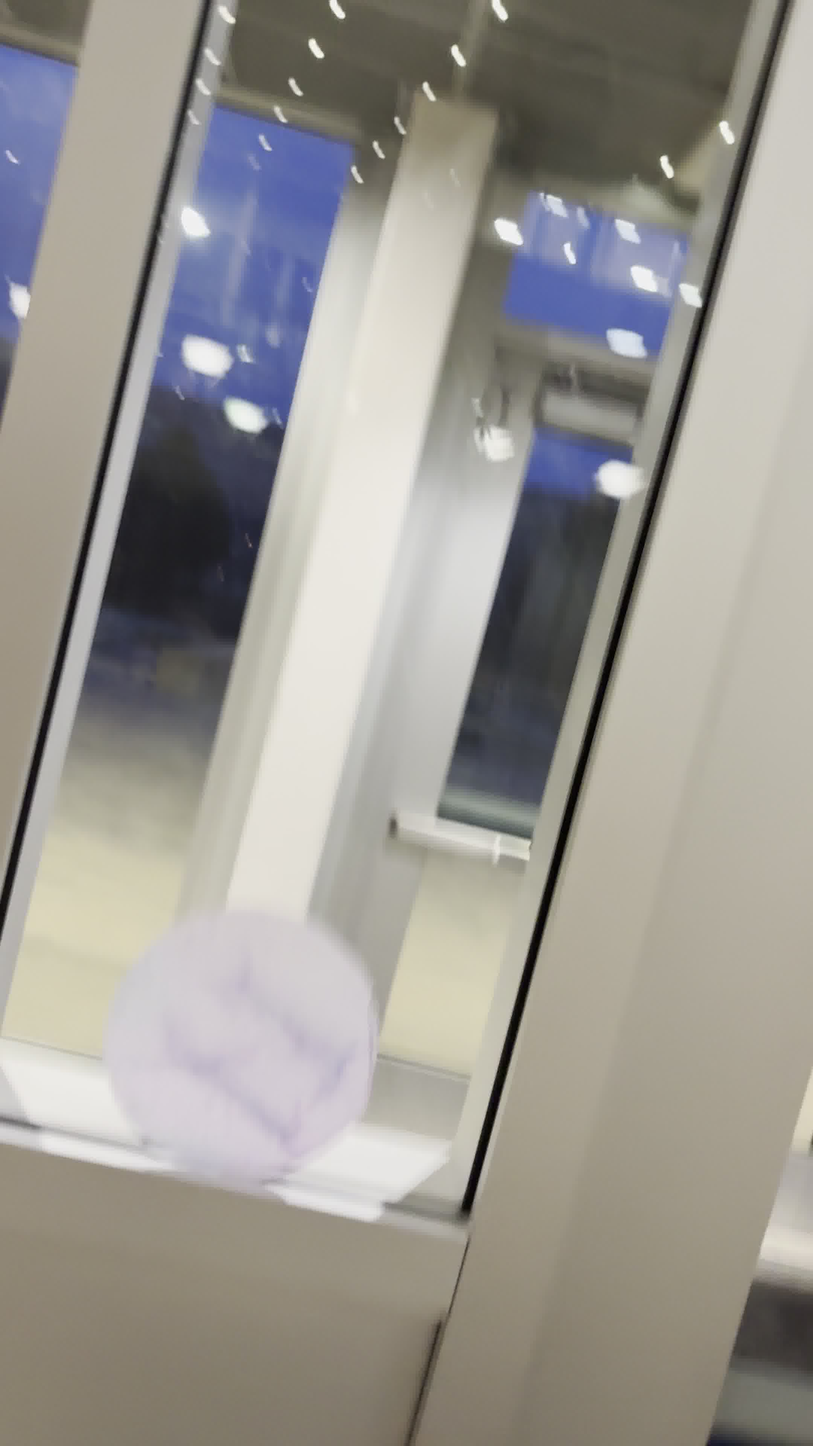Target: (98, 907, 384, 1187)
